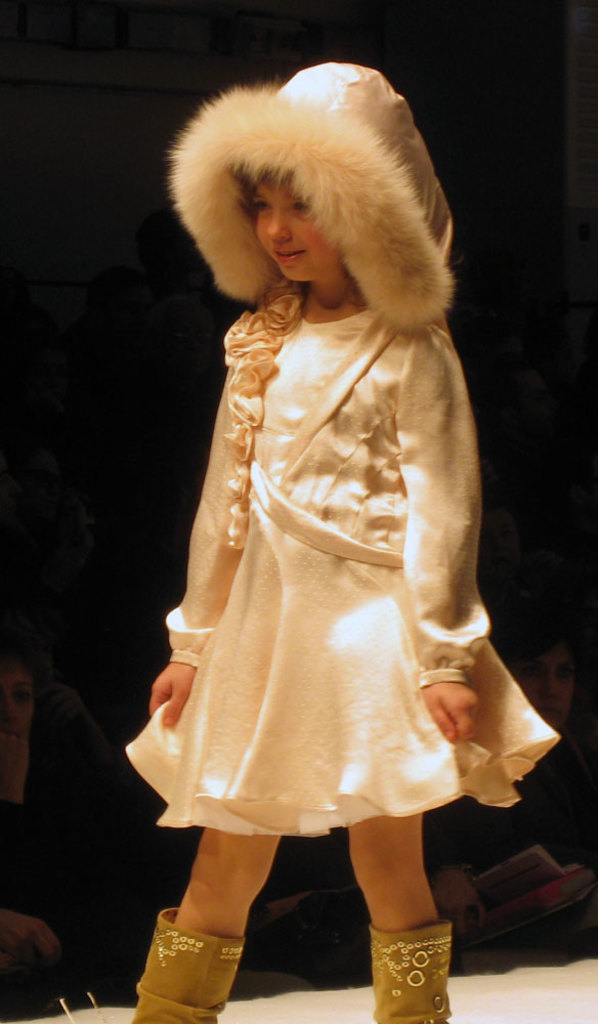Human_hand: (430, 867, 488, 938), (423, 680, 481, 745), (147, 660, 196, 728), (0, 908, 58, 958), (0, 730, 29, 795)
